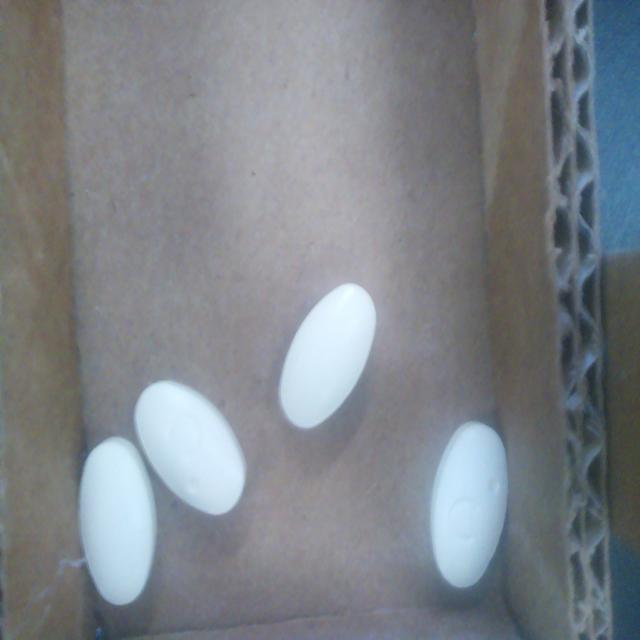pill: (134, 381, 246, 515), (279, 283, 376, 429), (430, 421, 508, 588), (79, 437, 156, 605)
